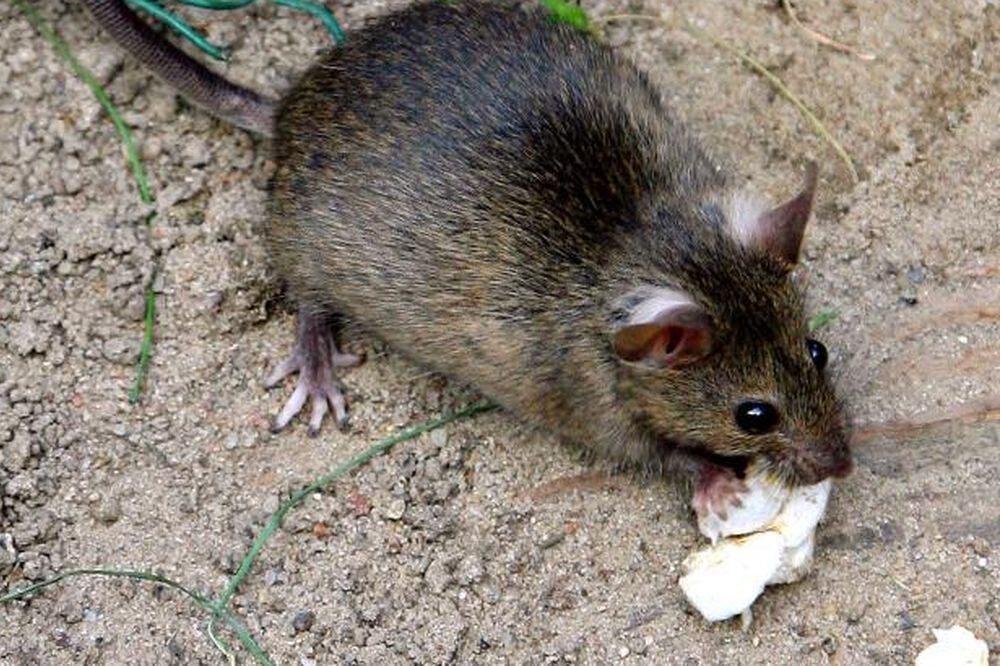rat: (238, 1, 873, 520)
